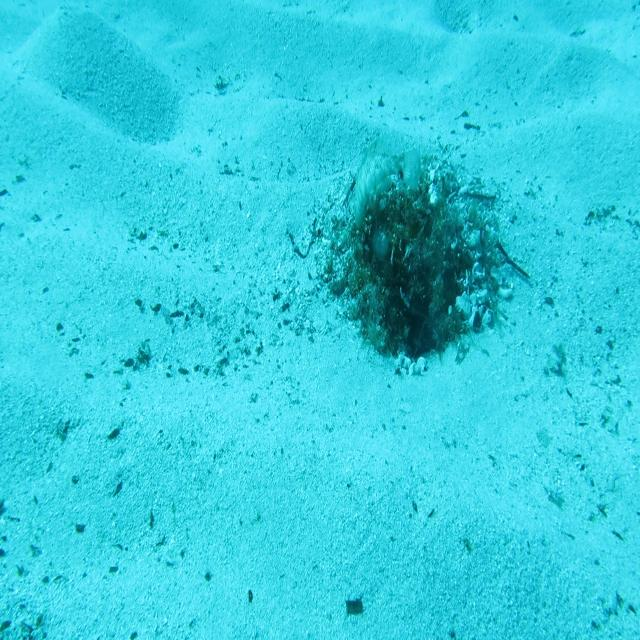NIP_IN: (350, 144, 426, 234)
core_nest: (382, 209, 439, 248)
nest: (304, 138, 517, 382)
